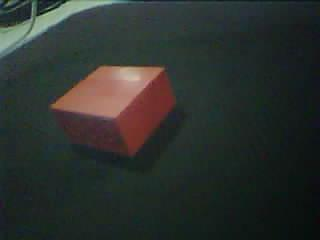lego: (48, 63, 178, 161)
